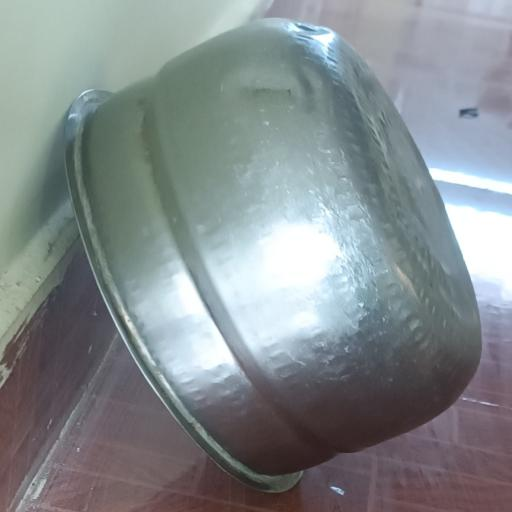vessel: (66, 20, 480, 491)
